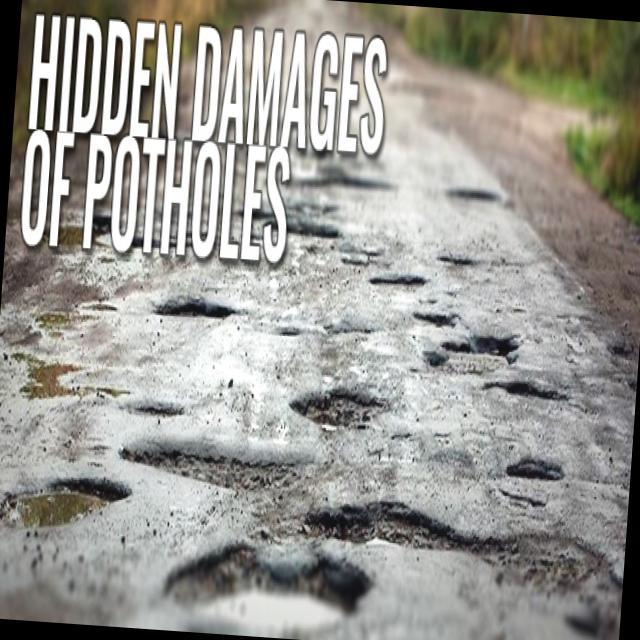Pothole: (160, 529, 375, 638), (479, 526, 622, 618), (302, 498, 469, 571), (121, 436, 290, 496), (0, 462, 133, 536), (288, 388, 382, 432), (442, 327, 518, 361), (156, 296, 230, 326), (507, 456, 563, 488), (368, 273, 426, 294), (130, 398, 182, 421), (414, 308, 454, 326), (276, 318, 302, 342), (440, 255, 474, 267), (426, 352, 445, 370)
